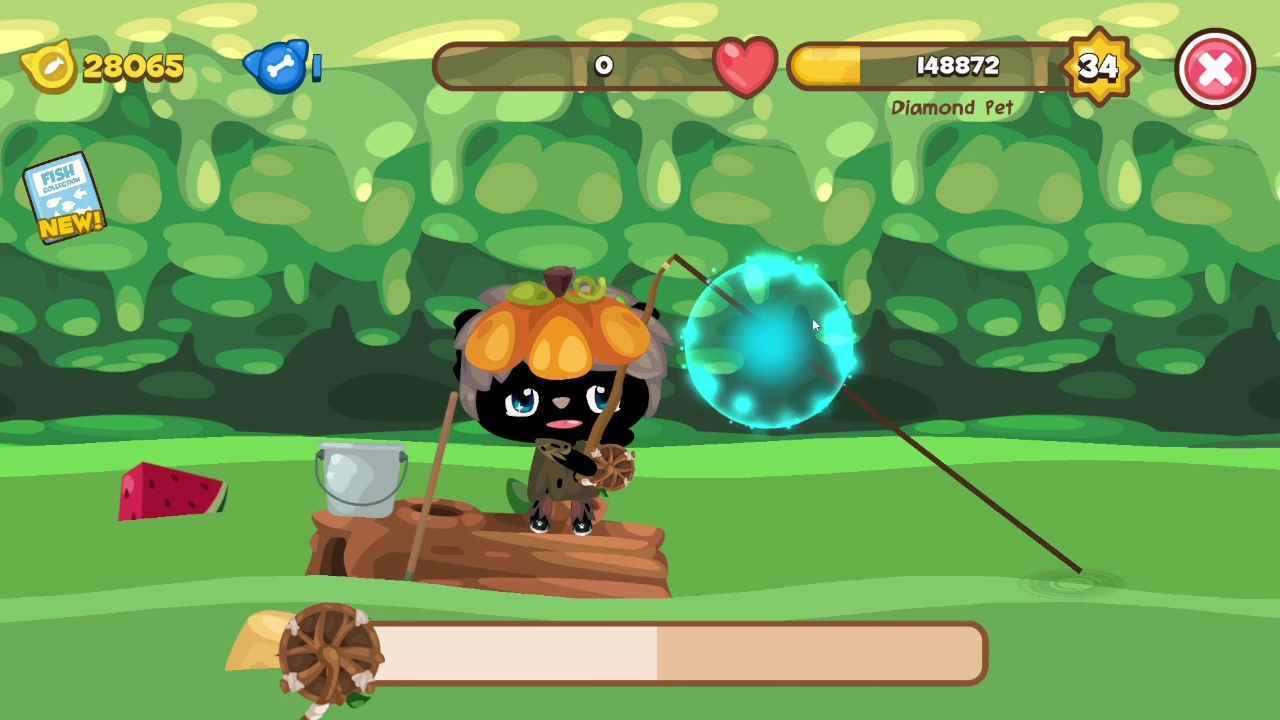point: (680, 256, 861, 430)
